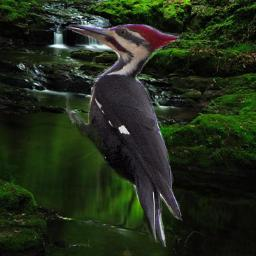Woodpecker: (66, 24, 183, 247)
